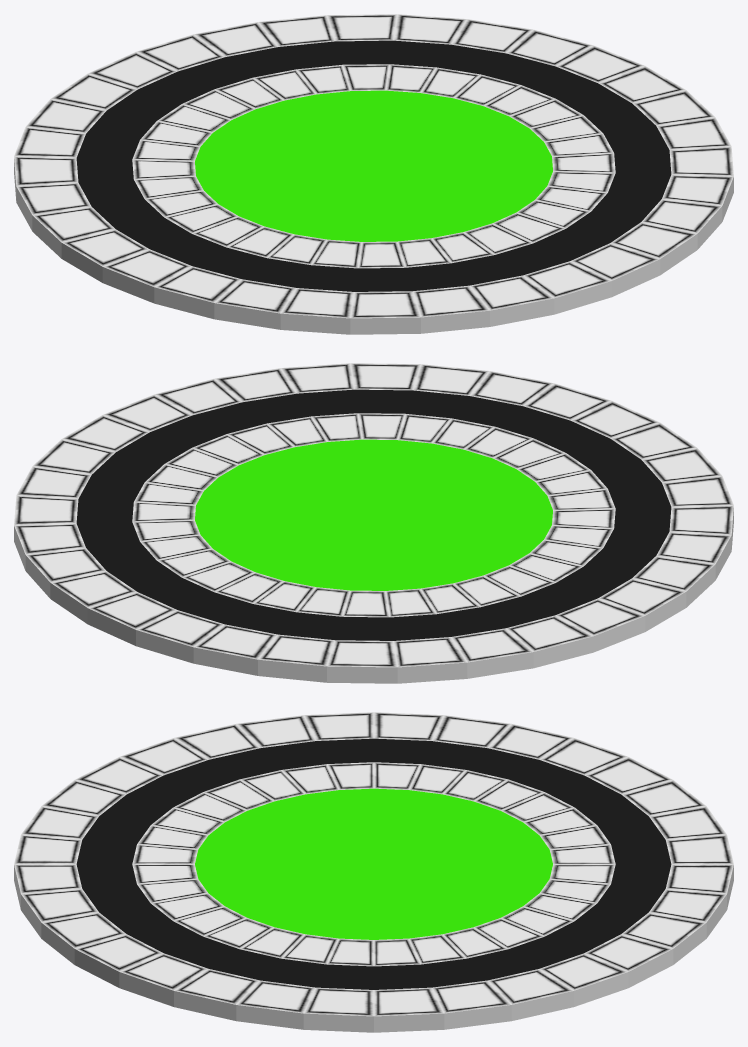
Rendered from Hub.glb.
3 views of the same model, one above another, from view 1: azimuth 30°, elevation 25°; view 2: azimuth 150°, elevation 25°; view 3: azimuth 270°, elevation 25° (orthographic).
Parts seen in each view (by area): view 1: Cylinder.Top-col, Cylinder-col, Cylinder.Top.Grass-col.002, Cylinder.Top.Grass-col.004, Cylinder.Top.Grass-col.003, Cylinder.Top.Grass-col.005, Cylinder.Top.Grass-col.001; view 2: Cylinder.Top-col, Cylinder-col, Cylinder.Top.Grass-col.005, Cylinder.Top.Grass-col.003, Cylinder.Top.Grass-col.004, Cylinder.Top.Grass-col.002, Cylinder.Top.Grass-col.001; view 3: Cylinder.Top-col, Cylinder-col, Cylinder.Top.Grass-col.003, Cylinder.Top.Grass-col.004, Cylinder.Top.Grass-col.002, Cylinder.Top.Grass-col.005, Cylinder.Top.Grass-col.001.
Part boxes in pixels (left/top/right/bottom): Cylinder.Top-col: left=14, top=14, right=733, bottom=318; Cylinder-col: left=14, top=159, right=733, bottom=334; Cylinder.Top.Grass-col.002: left=285, top=90, right=528, bottom=151; Cylinder.Top.Grass-col.004: left=219, top=181, right=462, bottom=241; Cylinder.Top.Grass-col.003: left=195, top=100, right=338, bottom=204; Cylinder.Top.Grass-col.005: left=409, top=128, right=552, bottom=231; Cylinder.Top.Grass-col.001: left=303, top=136, right=444, bottom=195; Cylinder.Top-col: left=14, top=363, right=733, bottom=667; Cylinder-col: left=14, top=508, right=733, bottom=683; Cylinder.Top.Grass-col.005: left=219, top=439, right=462, bottom=500; Cylinder.Top.Grass-col.003: left=285, top=530, right=528, bottom=590; Cylinder.Top.Grass-col.004: left=409, top=449, right=552, bottom=553; Cylinder.Top.Grass-col.002: left=195, top=477, right=338, bottom=580; Cylinder.Top.Grass-col.001: left=303, top=485, right=444, bottom=544; Cylinder.Top-col: left=14, top=712, right=733, bottom=1016; Cylinder-col: left=14, top=865, right=733, bottom=1032; Cylinder.Top.Grass-col.003: left=374, top=788, right=552, bottom=864; Cylinder.Top.Grass-col.004: left=195, top=788, right=373, bottom=864; Cylinder.Top.Grass-col.002: left=374, top=864, right=552, bottom=939; Cylinder.Top.Grass-col.005: left=195, top=864, right=373, bottom=939; Cylinder.Top.Grass-col.001: left=303, top=834, right=444, bottom=893.
Bounding box in the file's own units: 200 × 6 × 200.
Materials: 4 (1 with a texture image).
